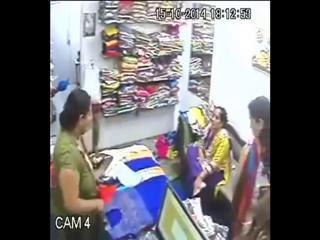Normal: (51, 88, 106, 240), (186, 105, 234, 229), (232, 96, 270, 239)
